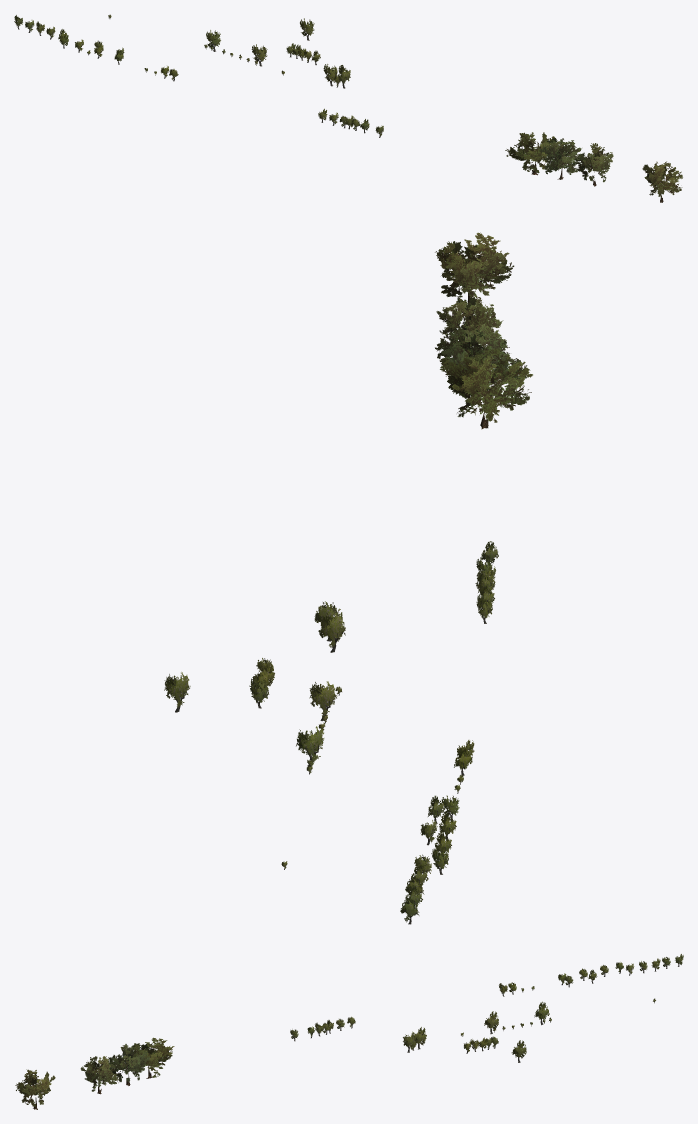
The picture shows the model from 3 angles, top to bottom: view 1: azimuth 30°, elevation 25°; view 2: azimuth 150°, elevation 25°; view 3: azimuth 270°, elevation 25°; orthographic projection. The views are drawn at different scales.
Parts seen in each view (by area): view 1: jacaranda_tree street foliage, island_tree_01 street foliage, island_tree_01 park bark; view 2: jacaranda_tree street foliage, island_tree_01 street foliage; view 3: jacaranda_tree street foliage, island_tree_01 street foliage, island_tree_01 park bark.
Boxes of the visible parts, left/top/right/bottom form: jacaranda_tree street foliage: left=505, top=132, right=682, bottom=197; island_tree_01 street foliage: left=14, top=14, right=383, bottom=136; island_tree_01 park bark: left=16, top=17, right=382, bottom=137; jacaranda_tree street foliage: left=435, top=232, right=532, bottom=422; island_tree_01 street foliage: left=164, top=541, right=498, bottom=922; jacaranda_tree street foliage: left=15, top=1037, right=174, bottom=1106; island_tree_01 street foliage: left=290, top=954, right=683, bottom=1058; island_tree_01 park bark: left=293, top=961, right=680, bottom=1062.
Bounding box in the file's own units: 120 × 14.06 × 222.
Materials: 4 (4 with a texture image).
